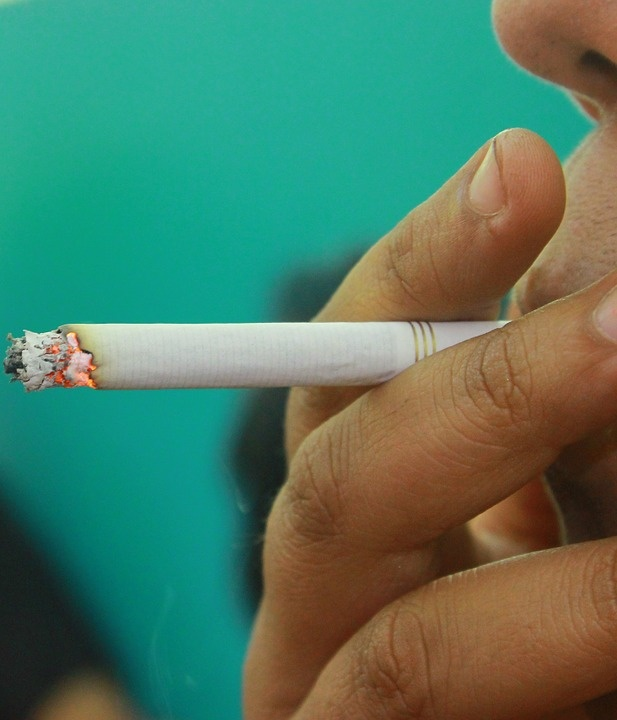sigaretta: (14, 319, 571, 399)
